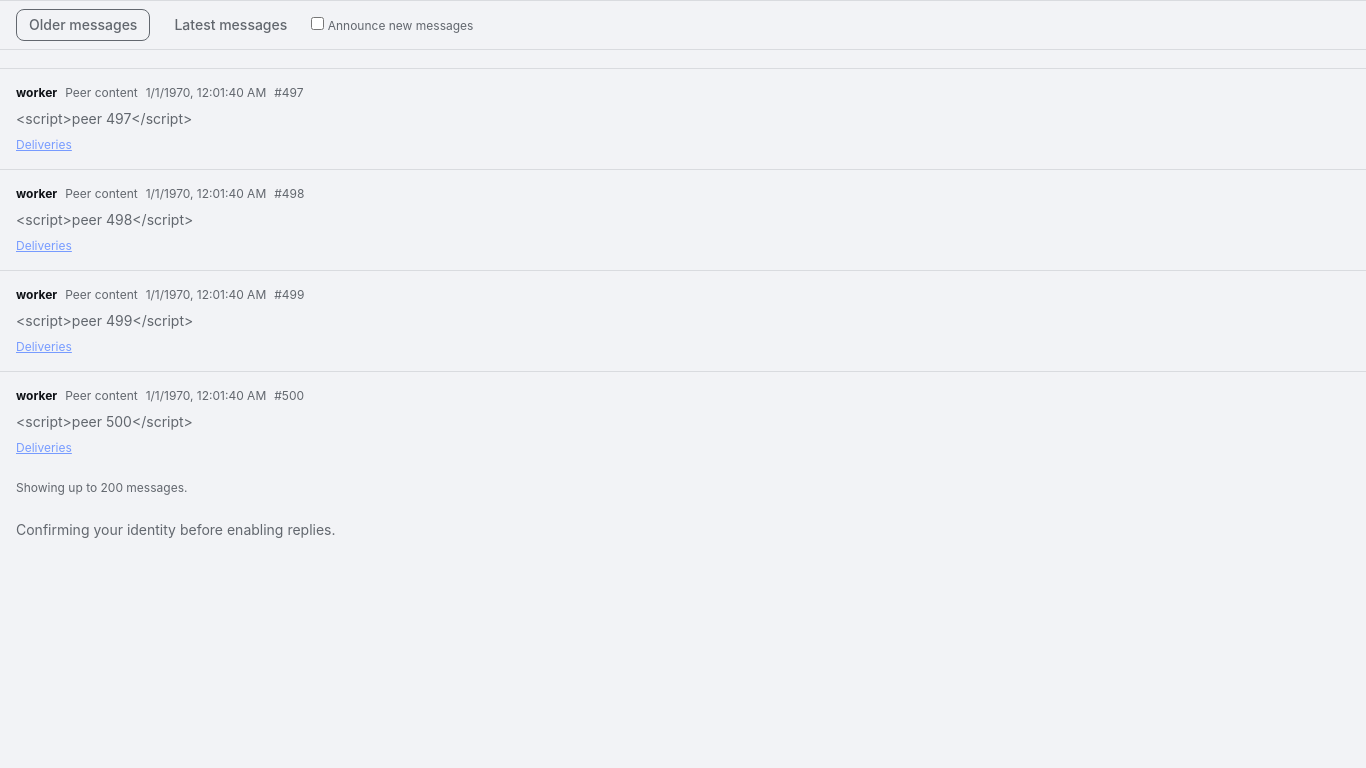
polls the tail separately, deduplicates overlapping sequences and bounds rendered messages
(page scrolled)
Expected: the text "<script>peer 500</script>" is shown, [16,413,193,430]
What coordinates should you click on to do the following:
click the button "Older messages"
I would click on:
 (83, 25)
Its box is [16,9,150,41].
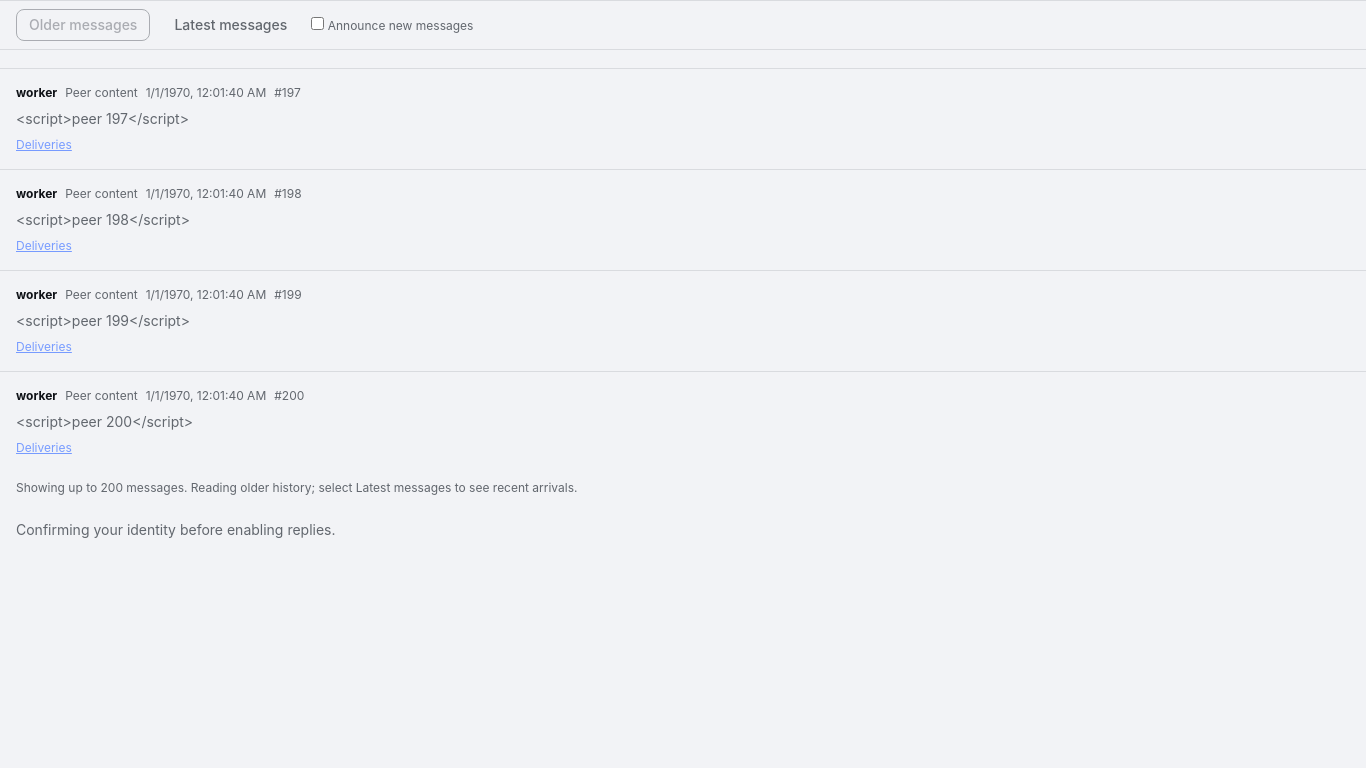
Now the text "<script>peer 500</script>" is gone
Now the text "Reading older history" is shown, box [191,480,578,495]
